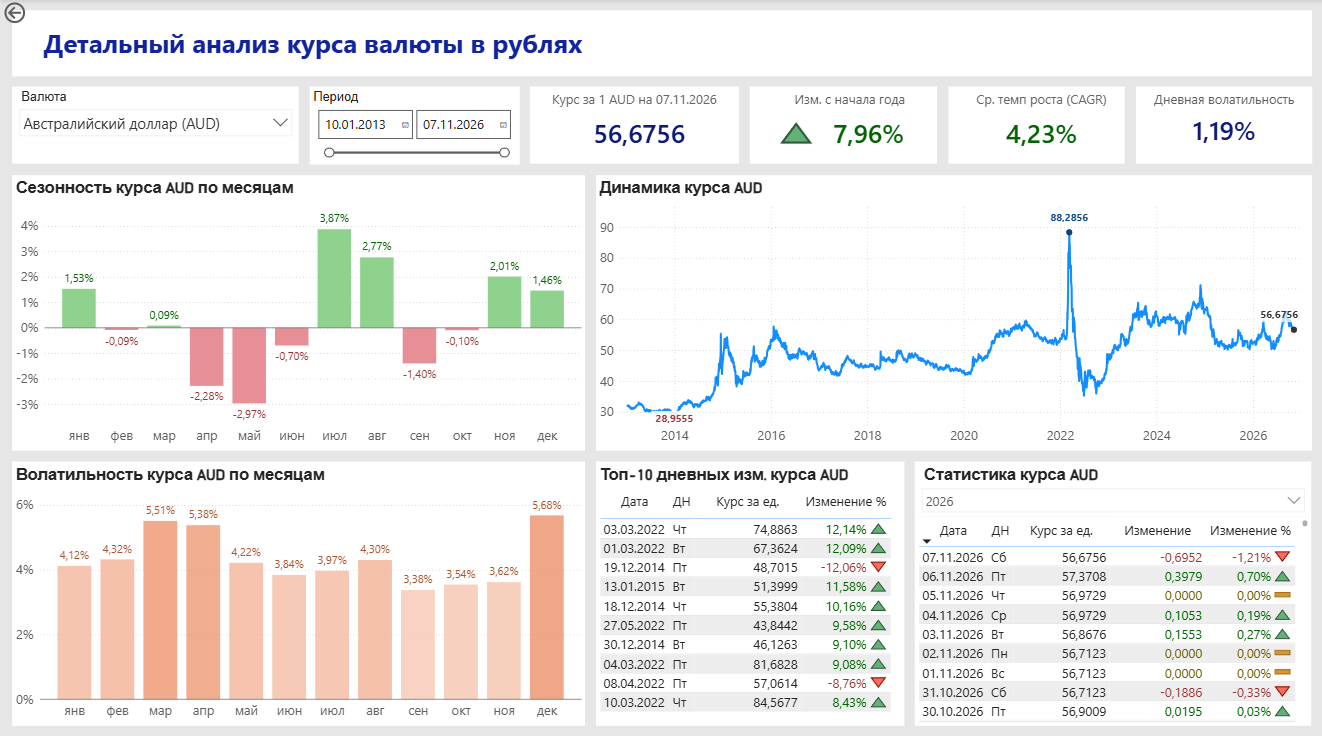

The dashboard page shown, as its layout file describes it:
{"tool":"powerbi","page":{"name":"Детали валюты","canvas":[1920,1080],"ordinal":1},"visuals":[{"type":"lineChart","fields":{"Category":["Календарь.Дата"],"Y":["_Меры.Средний курс","_Меры.Подпись Максимума","_Меры.Подпись Мин","_Меры.Подпись Тек Курс"]},"box":[864,256,1040,400],"z":0},{"type":"tableEx","fields":{"Values":["Календарь.Дата","Календарь.День недели","_Меры.Средний курс","_Меры.Изменение за день","_Меры.Изменение за день %"]},"box":[1328,752,576,304],"z":1000,"group":"g4"},{"type":"clusteredColumnChart","fields":{"Category":["Календарь.Мес"],"Y":["_Меры.Волатильность (месячная, средняя по годам)"]},"box":[16,672,832,384],"z":2000},{"type":"actionButton","box":[1744,32,176,64],"z":3000},{"type":"textbox","box":[16,16,1888,96],"z":4000},{"type":"pivotTable","fields":{"Values":["_Меры.Изменение с начала года"]},"box":[1088,128,272,112],"z":4000,"group":"g3"},{"type":"slicer","fields":{"Values":["Валюты.Наименование (код)"]},"box":[16,128,416,112],"z":5000},{"type":"cardVisual","fields":{"Data":["_Меры.Волатильность (дневная)"]},"box":[1648,128,256,112],"z":6000},{"type":"slicer","title":"Период","fields":{"Values":["Календарь.Дата"]},"box":[448,128,304,112],"z":7000},{"type":"pivotTable","fields":{"Values":["_Меры.Ср темп роста (CAGR)"]},"box":[1376,128,256,112],"z":7000,"group":"g1"},{"type":"tableEx","fields":{"Values":["Курсы валют.Дата","Календарь.День недели","_Меры.Средний курс","_Меры.Изменение за день %","_Меры.Изменение за день % abs"]},"box":[864,672,448,384],"z":8000},{"type":"slicer","title":"Период","fields":{"Values":["Календарь.Год","Календарь.Мес"]},"box":[1328,672,576,80],"z":9000,"group":"g4"},{"type":"columnChart","fields":{"Category":["Календарь.Мес"],"Y":["_Меры.Сезонность (лог)"]},"box":[16,256,832,400],"z":10000},{"type":"actionButton","box":[0,0,100,40],"z":12000},{"type":"pivotTable","fields":{"Values":["_Меры.Текущий курс"]},"box":[768,128,304,112],"z":12000,"group":"g2"},{"type":"shape","box":[768,128,304,112],"z":13000,"group":"g2"},{"type":"group","id":"g1","title":"Группа 1","box":[1376,128,256,112],"z":13000},{"type":"group","id":"g2","title":"Группа 2","box":[768,128,304,112],"z":14000},{"type":"shape","box":[1088,128,272,112],"z":14000,"group":"g3"},{"type":"group","id":"g3","title":"Группа 3","box":[1088,128,272,112],"z":15000},{"type":"group","id":"g4","title":"Группа 4","box":[1328,672,576,384],"z":15001},{"type":"shape","box":[1376,128,256,112],"z":18000,"group":"g1"}]}

Visuals, with their boxes in screenshot pixels (x1, y1, x2, y2), scaled from the page's 1920x1080 canvas onto the 1322x736 screenshot:
lineChart - Календарь.Дата x _Меры.Средний курс: crop(595, 174, 1311, 447)
tableEx - Календарь.Дата x Календарь.День недели: crop(914, 512, 1311, 720)
clusteredColumnChart - Календарь.Мес x _Меры.Волатильность (месячная, средняя по годам): crop(11, 458, 584, 720)
actionButton: crop(1201, 22, 1321, 65)
textbox: crop(11, 11, 1311, 76)
pivotTable - _Меры.Изменение с начала года: crop(749, 87, 936, 164)
slicer - Валюты.Наименование (код): crop(11, 87, 297, 164)
cardVisual - _Меры.Волатильность (дневная): crop(1135, 87, 1311, 164)
"Период" slicer: crop(308, 87, 518, 164)
pivotTable - _Меры.Ср темп роста (CAGR): crop(947, 87, 1124, 164)
tableEx - Курсы валют.Дата x Календарь.День недели: crop(595, 458, 903, 720)
"Период" slicer: crop(914, 458, 1311, 512)
columnChart - Календарь.Мес x _Меры.Сезонность (лог): crop(11, 174, 584, 447)
actionButton: crop(0, 0, 69, 27)
pivotTable - _Меры.Текущий курс: crop(529, 87, 738, 164)
shape: crop(529, 87, 738, 164)
"Группа 1" group: crop(947, 87, 1124, 164)
"Группа 2" group: crop(529, 87, 738, 164)
shape: crop(749, 87, 936, 164)
"Группа 3" group: crop(749, 87, 936, 164)
"Группа 4" group: crop(914, 458, 1311, 720)
shape: crop(947, 87, 1124, 164)
